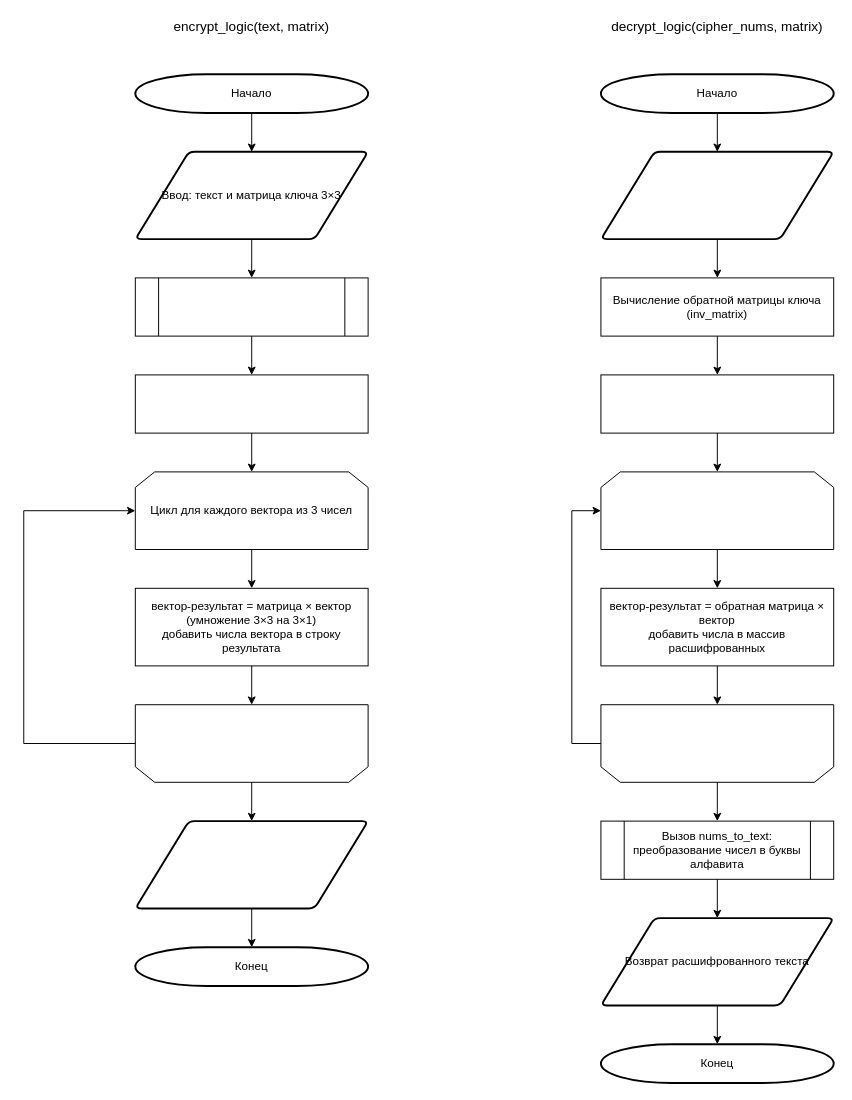
The diagram is 852 pixels wide and 1100 high, and some of its shapes have lost their labels. Each missing label, with the box of its shape:
Ввод: массив чисел шифртекста и матрица ключа 3×3: (599, 150, 834, 240)
Возврат массива чисел (зашифрованный текст): (134, 820, 369, 909)
Вызов text_to_nums: преобразование каждой буквы в её номер (А=1, ..., Я=32): (134, 277, 368, 336)
Дополнение текста нулями до кратности 3 Разбивка на трёхмерные вектора: (134, 374, 368, 433)
Разбивка массива чисел на трёхмерные вектора: (600, 374, 834, 433)
Цикл для каждого вектора: (600, 471, 834, 550)
